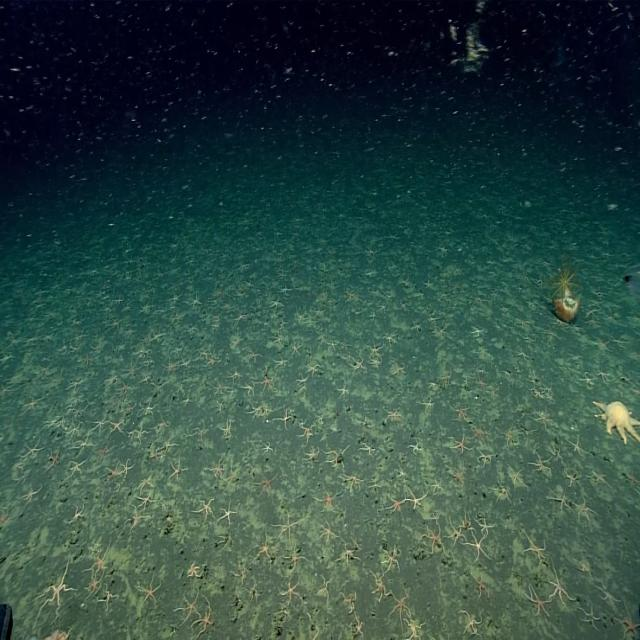brittle-stars: (40, 561, 72, 613), (549, 565, 572, 606), (274, 512, 300, 545), (618, 602, 640, 639), (388, 590, 410, 626), (523, 533, 547, 564), (578, 602, 602, 632), (526, 586, 550, 616), (196, 600, 216, 636), (176, 591, 200, 620), (137, 576, 160, 606), (467, 533, 490, 562), (423, 523, 444, 554), (278, 578, 303, 604), (89, 548, 111, 576), (372, 568, 391, 598), (462, 611, 483, 638), (315, 487, 337, 512), (338, 542, 359, 568), (255, 533, 272, 564), (326, 448, 348, 471), (256, 473, 278, 496), (549, 489, 570, 513), (195, 496, 216, 520), (284, 546, 305, 570), (574, 497, 594, 522), (490, 479, 510, 504), (382, 548, 401, 574), (509, 466, 528, 491), (407, 486, 428, 508), (530, 452, 551, 474), (23, 439, 44, 461), (126, 509, 147, 531), (86, 571, 104, 596), (100, 585, 118, 610), (72, 435, 93, 456), (450, 434, 470, 456), (405, 618, 425, 640), (447, 520, 466, 543), (44, 626, 75, 640), (318, 520, 336, 544), (218, 503, 236, 527), (23, 484, 43, 505), (168, 457, 186, 480), (470, 420, 488, 443), (69, 503, 87, 526), (474, 574, 491, 598), (342, 474, 363, 493), (533, 408, 552, 429), (190, 420, 208, 442), (568, 436, 586, 458), (68, 457, 87, 477), (137, 490, 156, 510), (477, 516, 494, 538), (450, 462, 466, 485), (386, 494, 405, 513), (351, 616, 366, 640), (208, 458, 225, 479), (276, 408, 292, 430), (452, 405, 470, 424), (589, 468, 608, 486), (130, 423, 148, 442), (23, 395, 42, 413), (226, 466, 242, 487), (186, 560, 202, 581), (156, 416, 172, 436), (359, 442, 376, 460), (137, 476, 154, 494), (96, 444, 114, 461), (118, 459, 134, 478), (260, 375, 276, 394), (564, 469, 579, 489), (366, 340, 382, 358), (624, 472, 640, 490), (211, 376, 227, 394), (338, 378, 351, 400), (105, 462, 120, 481), (300, 420, 314, 440), (385, 408, 402, 424), (596, 367, 612, 384), (612, 335, 630, 350), (247, 402, 262, 420), (394, 364, 409, 382), (503, 425, 515, 447), (219, 418, 232, 438), (46, 450, 59, 470), (304, 447, 320, 463), (594, 338, 610, 354), (391, 359, 406, 376), (67, 421, 82, 438), (109, 419, 124, 435), (581, 372, 596, 388), (93, 416, 108, 432), (245, 348, 261, 363), (476, 344, 491, 360), (617, 372, 634, 386), (552, 446, 565, 464), (420, 397, 435, 412), (307, 361, 322, 376), (384, 332, 399, 347), (274, 353, 288, 369), (242, 381, 256, 397), (351, 356, 365, 372), (150, 328, 164, 344), (235, 310, 249, 326), (126, 361, 140, 377), (164, 439, 178, 454), (163, 364, 177, 379), (165, 357, 178, 373), (188, 292, 201, 308), (411, 441, 424, 457), (270, 297, 284, 311), (272, 334, 286, 348), (313, 306, 327, 320), (289, 341, 301, 357), (395, 464, 407, 480), (140, 300, 152, 316), (367, 355, 381, 368), (470, 324, 484, 337), (279, 282, 292, 296), (206, 353, 218, 368), (518, 347, 530, 362), (263, 442, 275, 456), (149, 448, 161, 462), (477, 377, 489, 391), (340, 338, 352, 352), (541, 383, 552, 396), (398, 300, 408, 314)
